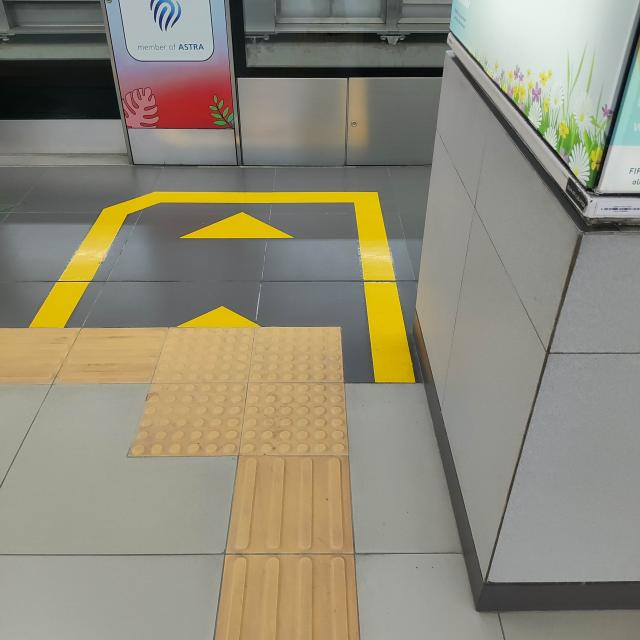kiri: (0, 281, 455, 524)
